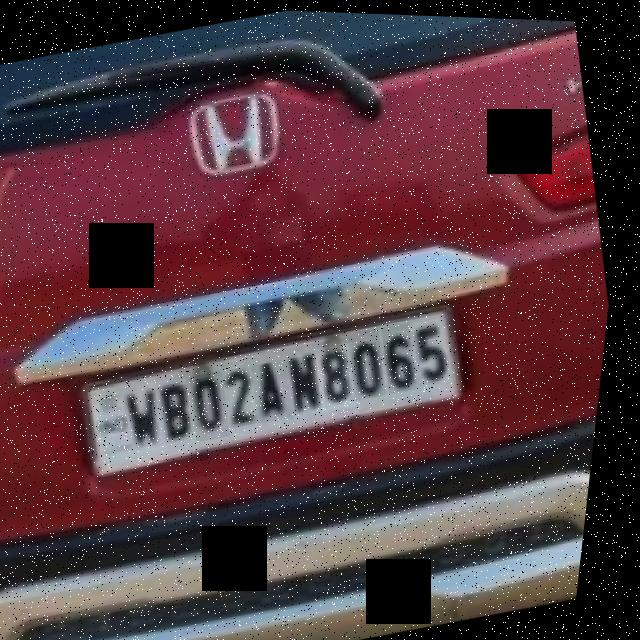0: (343, 320, 401, 398), (192, 367, 245, 441)
5: (415, 312, 471, 389)
6: (383, 318, 431, 391)
8: (316, 338, 370, 410)
A: (254, 356, 307, 423)
B: (160, 373, 210, 445)
N: (286, 344, 341, 420)
W: (127, 381, 180, 454)
